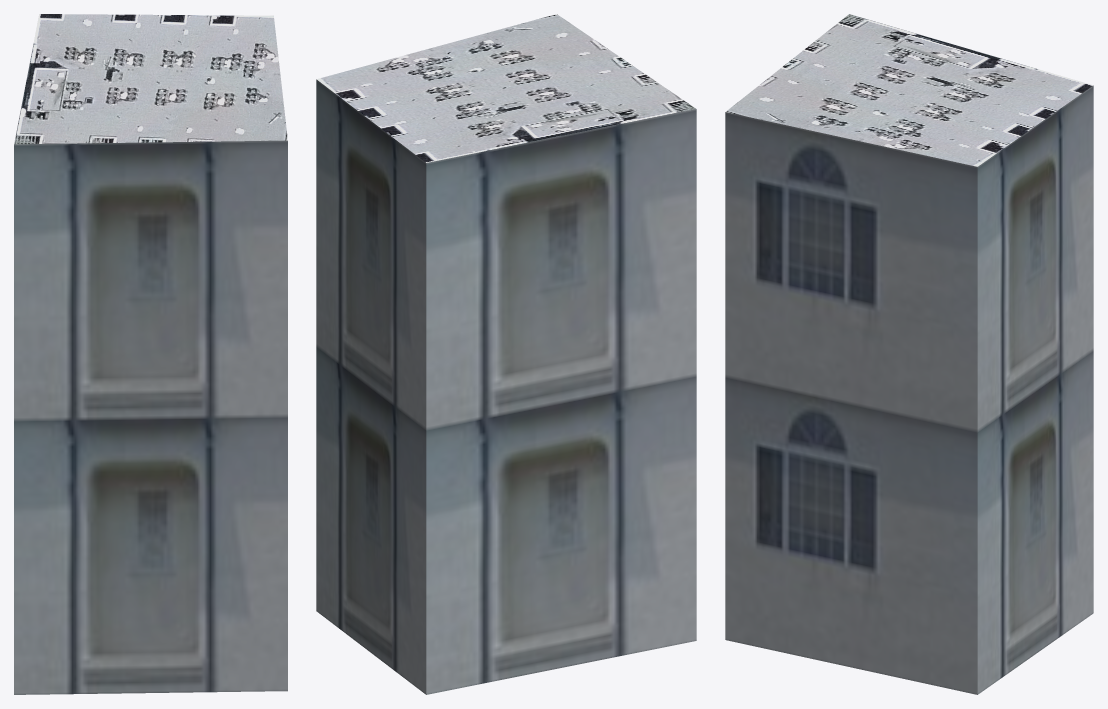
The model's file is ResTex__4556.fbx.
3 views of the same model, side by side, from view 1: azimuth 30°, elevation 25°; view 2: azimuth 150°, elevation 25°; view 3: azimuth 270°, elevation 25° (orthographic). The views are drawn at different scales.
Parts seen in each view (by area): view 1: CityEngineMaterial_17_m, CityEngineMaterial_4_m; view 2: CityEngineMaterial_17_m, CityEngineMaterial_4_m; view 3: CityEngineMaterial_17_m, CityEngineMaterial_4_m.
Part boxes in pixels (x1=…): CityEngineMaterial_17_m: x1=14, y1=140, x2=287, y2=694; CityEngineMaterial_4_m: x1=14, y1=14, x2=287, y2=144; CityEngineMaterial_17_m: x1=316, y1=79, x2=696, y2=694; CityEngineMaterial_4_m: x1=317, y1=14, x2=695, y2=162; CityEngineMaterial_17_m: x1=725, y1=85, x2=1093, y2=694; CityEngineMaterial_4_m: x1=726, y1=14, x2=1092, y2=166.
Size of the model in its own units: 3.73 by 6 by 3.79.
Materials: 2 (2 with a texture image).
